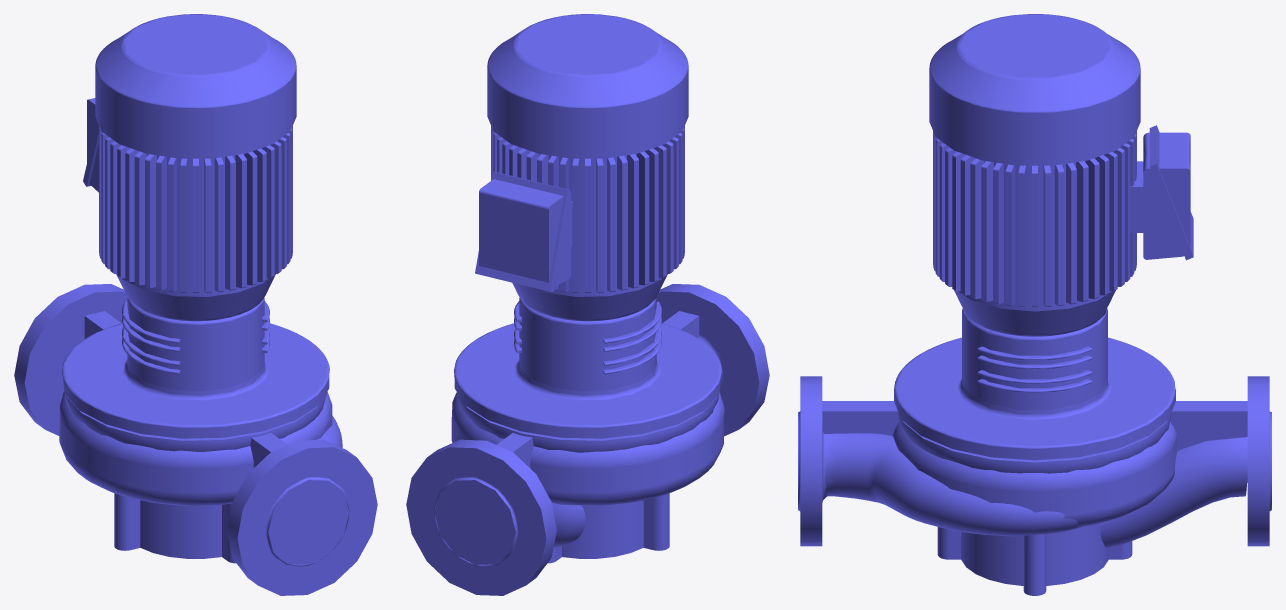
Rendered from small.glb.
3 renders of one model, left to right at view 1: azimuth 30°, elevation 25°; view 2: azimuth 150°, elevation 25°; view 3: azimuth 270°, elevation 25°, orthographic. The views are drawn at different scales.
Visible parts, largest first — view 1: ILP 40-160; view 2: ILP 40-160; view 3: ILP 40-160.
Boxes of the visible parts, box(x1,y1,x2,y2) form: ILP 40-160: box(14, 14, 377, 595); ILP 40-160: box(406, 14, 769, 595); ILP 40-160: box(798, 14, 1271, 595).
Size of the model in its own units: 0.2393 by 0.462 by 0.39.
